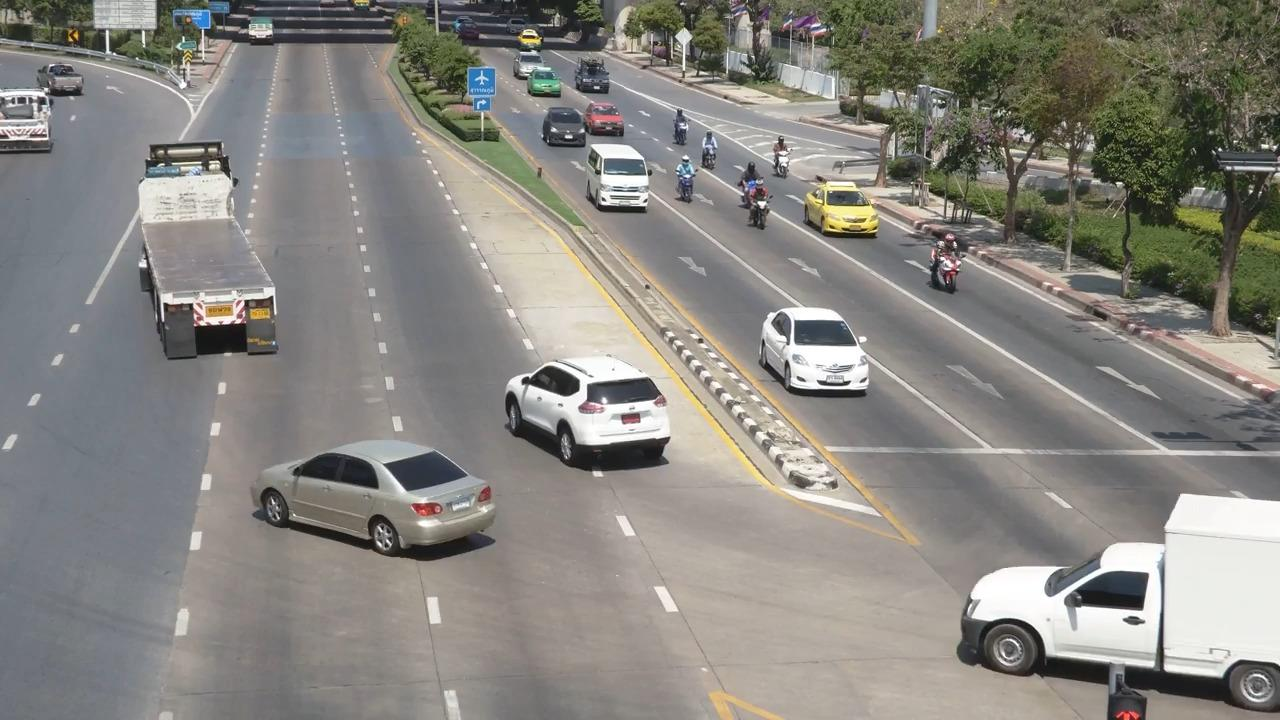CAR: (243, 423, 497, 568), (489, 344, 686, 474), (748, 292, 876, 409), (580, 134, 657, 218), (795, 173, 881, 244), (1, 94, 57, 175), (37, 59, 90, 104), (571, 56, 620, 103), (238, 8, 282, 60), (537, 105, 584, 153), (576, 103, 629, 135), (525, 67, 566, 101)
HGV_BUS: (942, 455, 1280, 714), (108, 127, 297, 374)
MOTOR: (923, 233, 968, 291), (764, 132, 799, 182), (667, 105, 694, 153), (743, 183, 772, 225), (696, 131, 721, 175), (670, 161, 693, 206)
